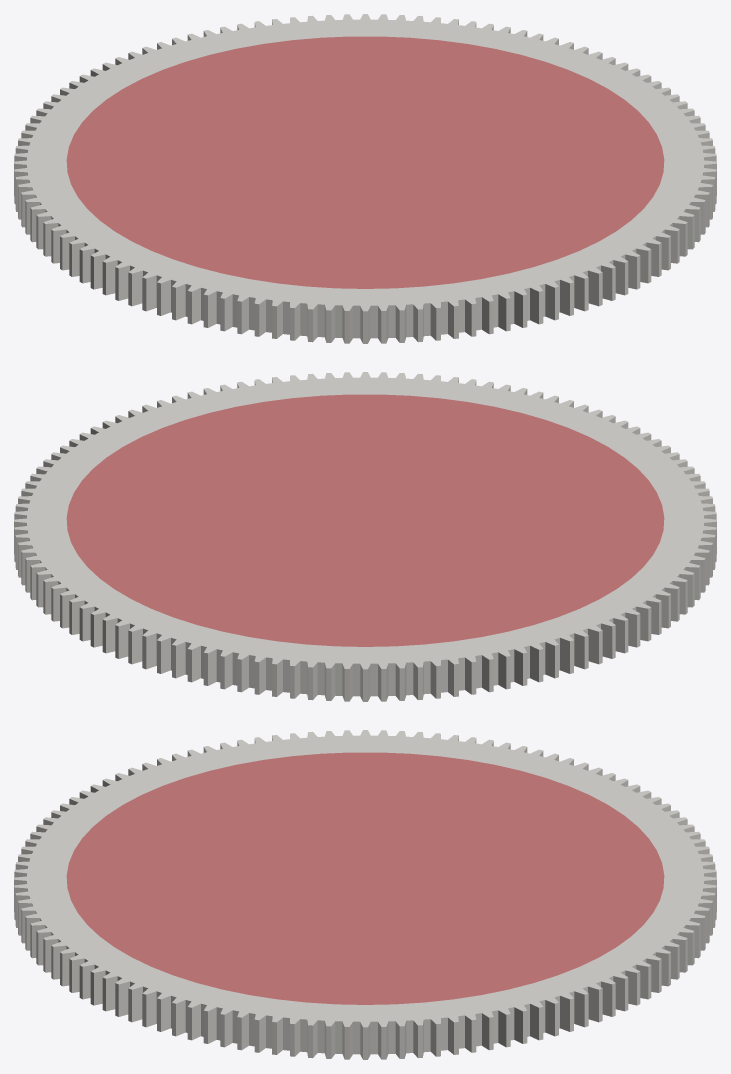
The model's file is step_02.glb.
The picture shows the model from 3 angles, top to bottom: view 1: azimuth 30°, elevation 25°; view 2: azimuth 150°, elevation 25°; view 3: azimuth 270°, elevation 25°; orthographic projection.
Visible parts, largest first — view 1: removed__drive gear (worm wheel), part__drive gear (worm wheel); view 2: removed__drive gear (worm wheel), part__drive gear (worm wheel); view 3: removed__drive gear (worm wheel), part__drive gear (worm wheel).
Part boxes in pixels (left/top/right/bottom): removed__drive gear (worm wheel): left=66, top=36, right=664, bottom=288; part__drive gear (worm wheel): left=14, top=14, right=716, bottom=343; removed__drive gear (worm wheel): left=66, top=394, right=664, bottom=646; part__drive gear (worm wheel): left=14, top=372, right=716, bottom=701; removed__drive gear (worm wheel): left=66, top=752, right=664, bottom=1004; part__drive gear (worm wheel): left=14, top=730, right=716, bottom=1059.
Size of the model in its own units: 97.6 by 5 by 97.6.
